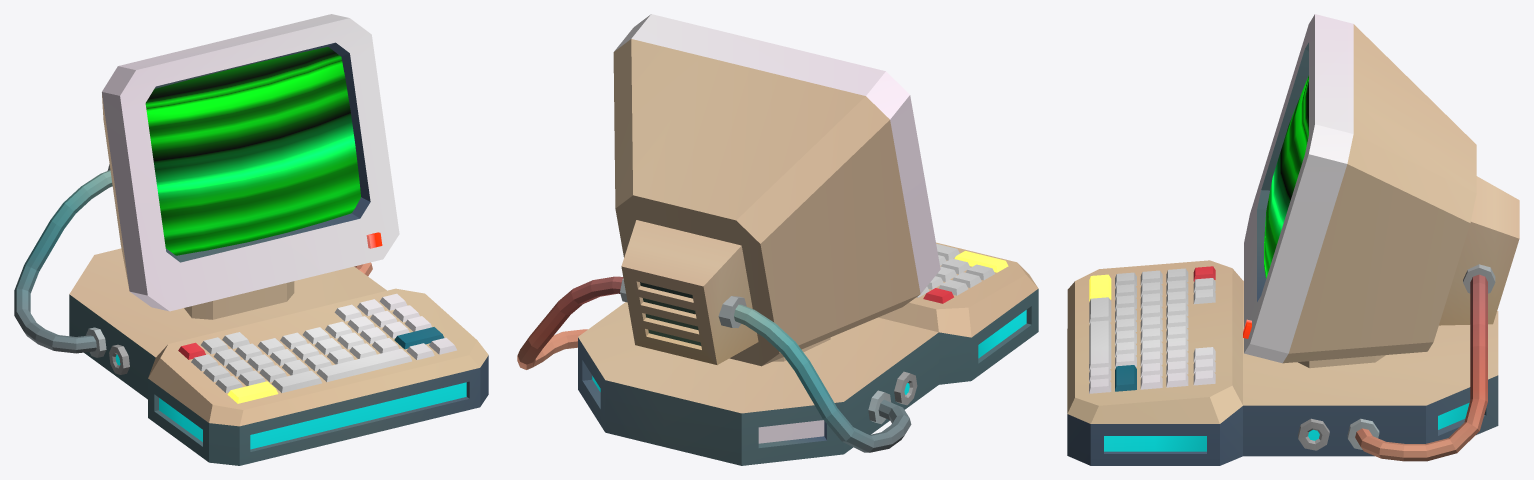
The model's file is Terminal.fbx.
The picture shows the model from 3 angles, left to right: view 1: azimuth 30°, elevation 25°; view 2: azimuth 150°, elevation 25°; view 3: azimuth 270°, elevation 25°; orthographic projection. The views are drawn at different scales.
Parts seen in each view (by area): view 1: Terminal; view 2: Terminal; view 3: Terminal.
Boxes of the visible parts, box(x1,y1,x2,y2) form: Terminal: box(14, 14, 488, 465); Terminal: box(517, 14, 1038, 465); Terminal: box(1067, 14, 1519, 465).
Size of the model in its own units: 54.86 by 48.49 by 61.21.
